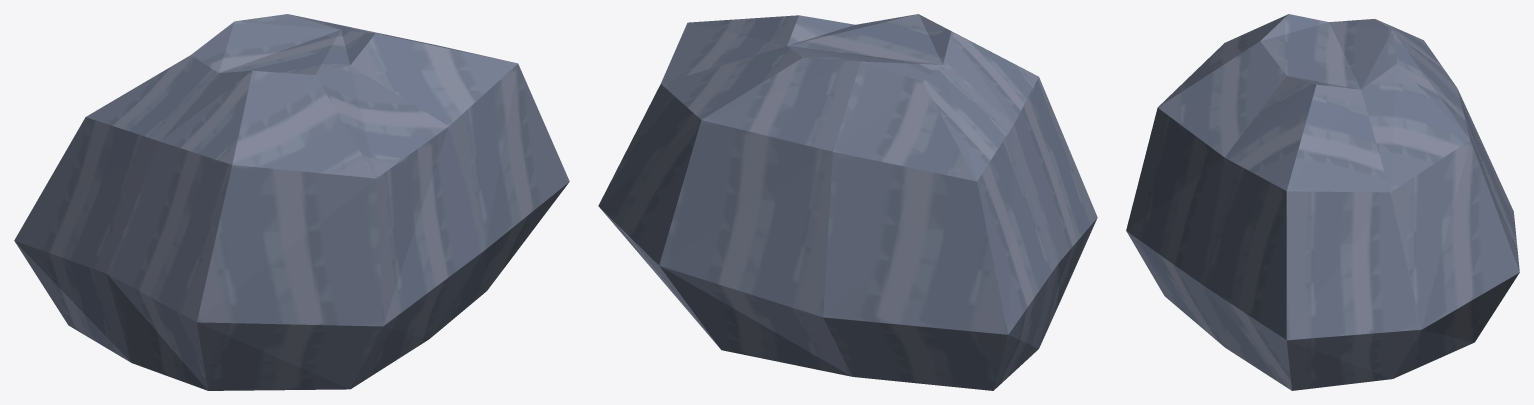
Rendered from coastal_rock_wide.glb.
3 views of the same model, side by side, from view 1: azimuth 30°, elevation 25°; view 2: azimuth 150°, elevation 25°; view 3: azimuth 270°, elevation 25° (orthographic). The views are drawn at different scales.
Visible parts, largest first — view 1: beach_coastal_rock_wide; view 2: beach_coastal_rock_wide; view 3: beach_coastal_rock_wide.
Boxes of the visible parts, x1,y1,x2,y2 form: beach_coastal_rock_wide: [14, 14, 569, 390]; beach_coastal_rock_wide: [598, 14, 1097, 390]; beach_coastal_rock_wide: [1126, 14, 1519, 390].
Bounding box in the file's own units: 2.6 × 1.5 × 2.
1 material, 1 textured.
